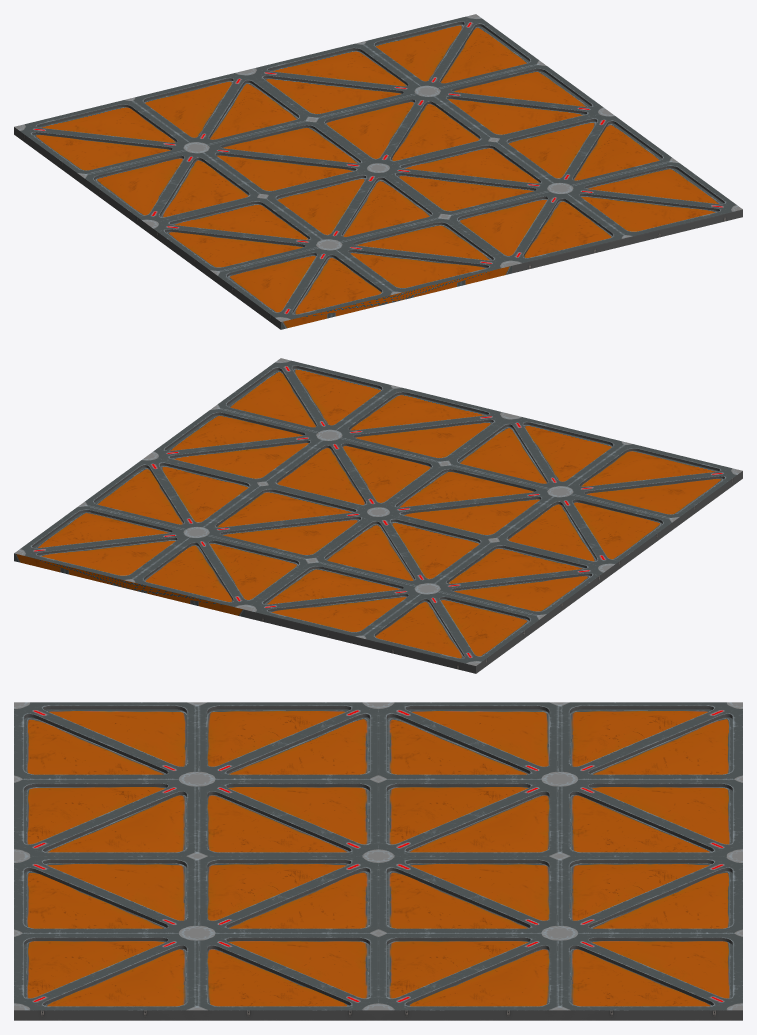
File: Platform_Padded.gltf
3 views of the same model, one above another, from view 1: azimuth 30°, elevation 25°; view 2: azimuth 150°, elevation 25°; view 3: azimuth 270°, elevation 25° (orthographic). The views are drawn at different scales.
Parts seen in each view (by area): view 1: Platform_Padded; view 2: Platform_Padded; view 3: Platform_Padded.
Part boxes in pixels (bbox=[...]): Platform_Padded: bbox=[14, 14, 742, 329]; Platform_Padded: bbox=[14, 358, 742, 673]; Platform_Padded: bbox=[14, 702, 742, 1020].
Bounding box in the file's own units: 4 × 0.1114 × 4.
2 materials, 2 textured.
